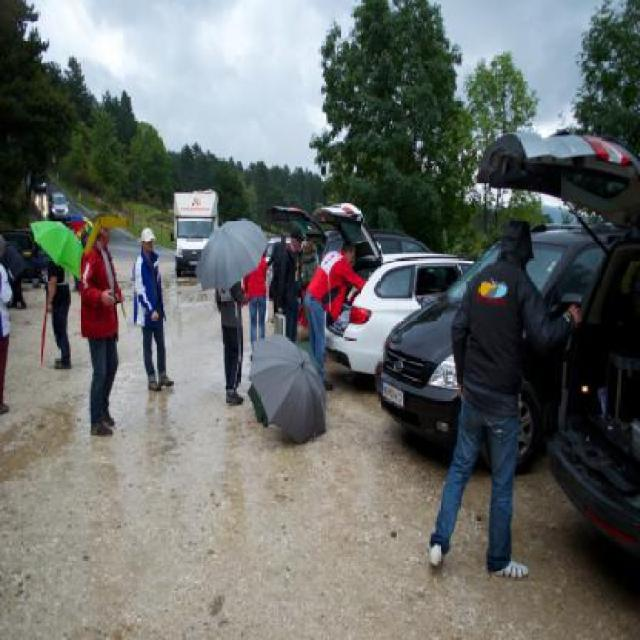Person: (425, 216, 573, 575), (69, 205, 113, 438), (304, 241, 362, 388), (135, 220, 174, 392), (218, 280, 245, 402), (45, 258, 70, 374), (242, 255, 268, 357), (278, 228, 300, 334), (0, 234, 12, 417), (268, 234, 286, 315)
